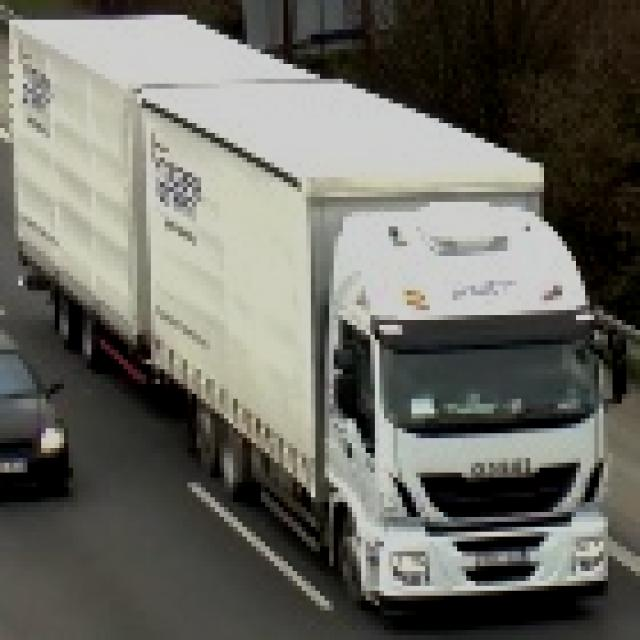SED: (0, 325, 73, 502)
TRUCK: (14, 13, 628, 622)
